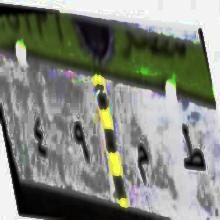4: (28, 109, 54, 169)
9: (69, 119, 93, 172)
Taa: (179, 123, 206, 186)
meem: (131, 136, 155, 184)
